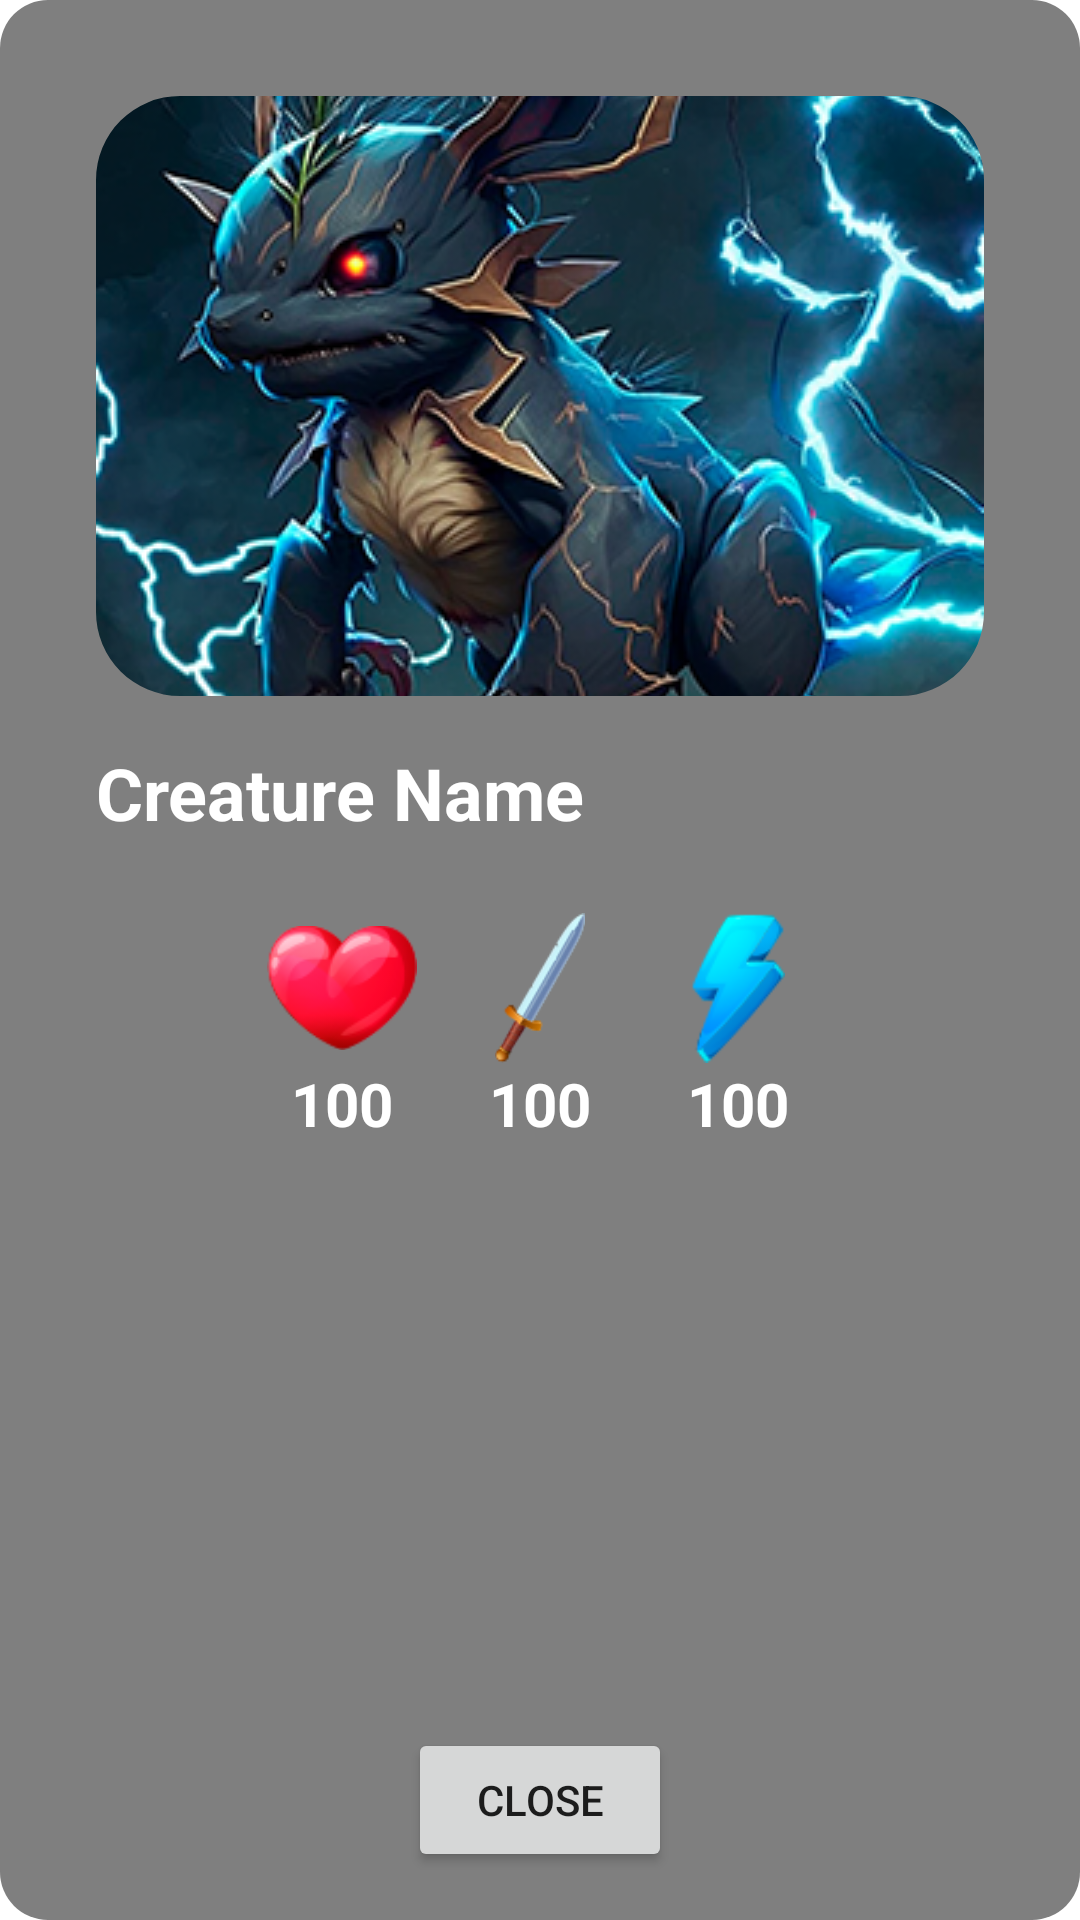

Icon bounding boxes for this 1080*1920 phone screenshot, format bbox=(x1, y1, x2, y2):
attack: bbox=(495, 913, 585, 1062)
health: bbox=(267, 926, 417, 1050)
mana: bbox=(692, 914, 785, 1063)
